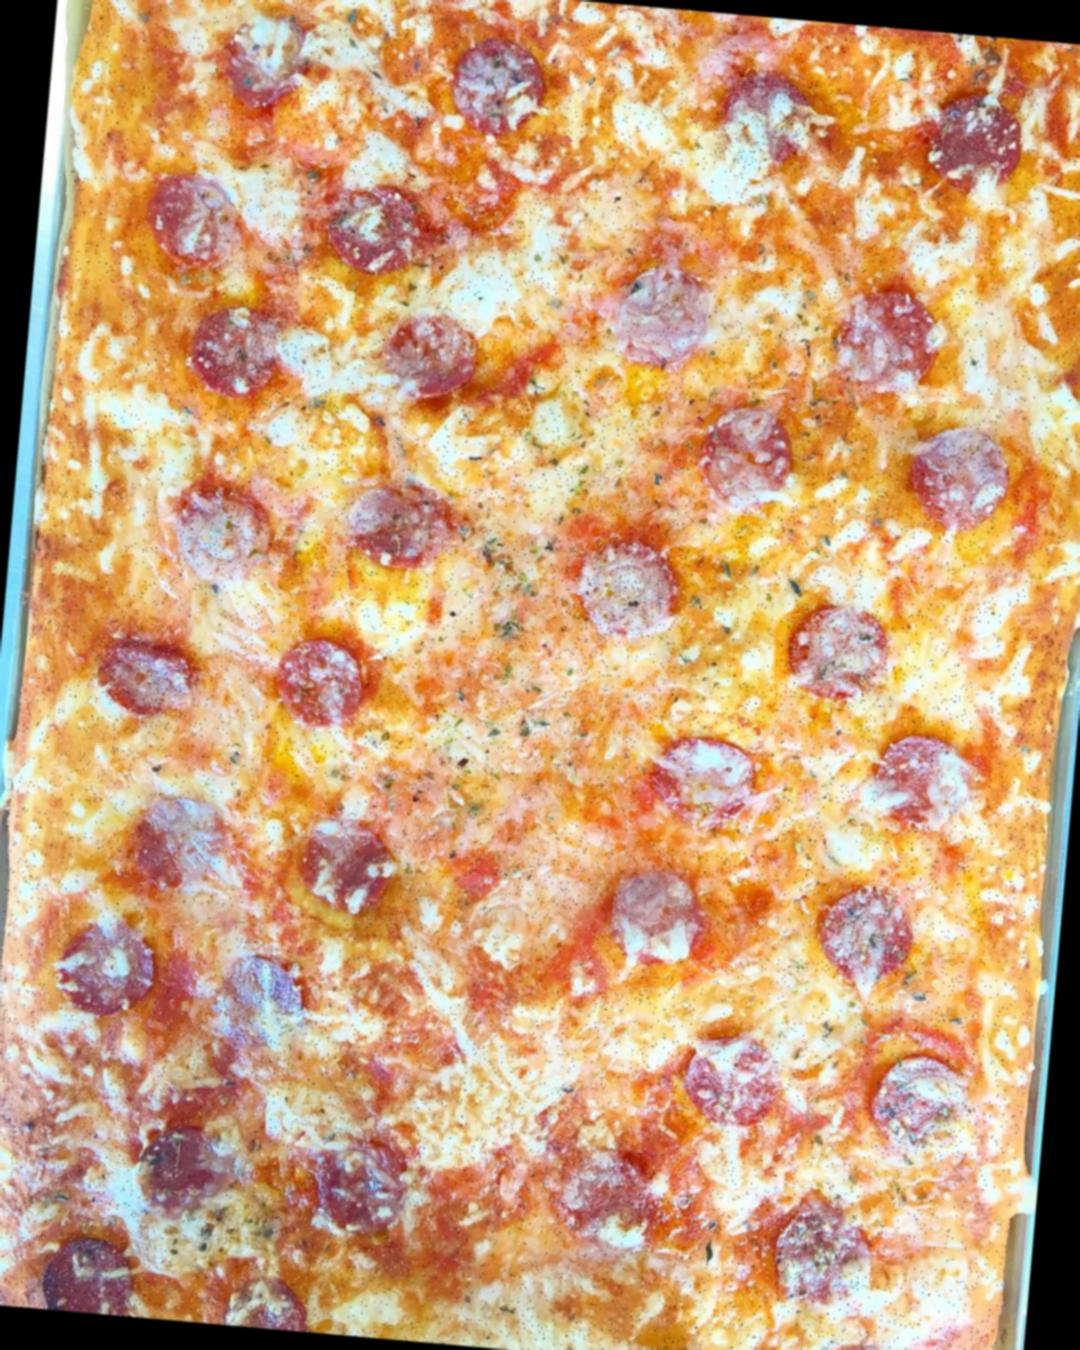Pepperoni: (560, 538, 690, 647), (637, 735, 753, 846), (780, 602, 893, 710), (603, 266, 709, 380), (86, 637, 203, 738), (832, 281, 937, 393), (868, 1052, 974, 1162), (174, 471, 279, 581), (716, 67, 821, 174), (916, 88, 1024, 190), (540, 1144, 657, 1238), (127, 796, 231, 898), (771, 1205, 867, 1313), (672, 1037, 784, 1128), (325, 181, 426, 279), (266, 633, 364, 734), (188, 305, 285, 407), (384, 309, 477, 412), (910, 428, 1007, 527), (874, 731, 969, 832), (55, 920, 158, 1014), (819, 883, 916, 981), (132, 1125, 231, 1220), (300, 816, 396, 912), (305, 1133, 406, 1225), (702, 406, 797, 499), (446, 36, 540, 130), (218, 954, 312, 1048), (145, 175, 238, 268), (220, 9, 303, 106), (617, 872, 706, 961), (39, 1235, 130, 1316), (345, 488, 433, 568), (226, 1276, 310, 1330)
Pizza: (0, 0, 1080, 1350)
